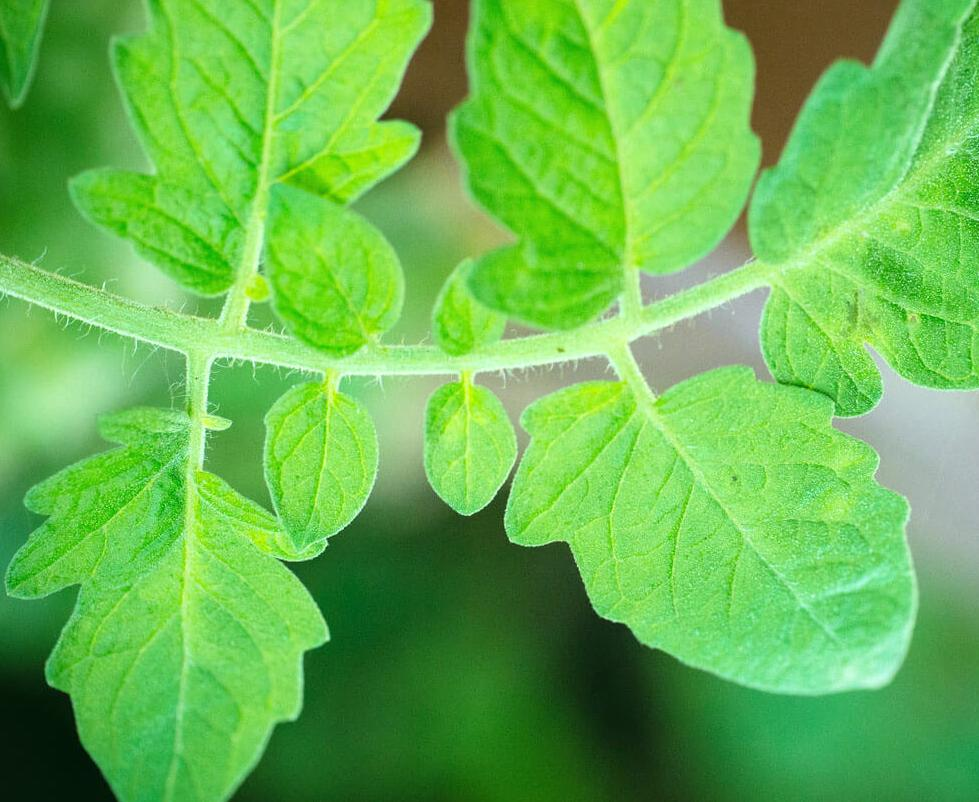Tomato leaf: (524, 344, 918, 709), (3, 400, 293, 799), (80, 0, 432, 307), (460, 0, 742, 339), (768, 0, 979, 413), (264, 184, 424, 366), (263, 361, 388, 541), (414, 361, 517, 530)
